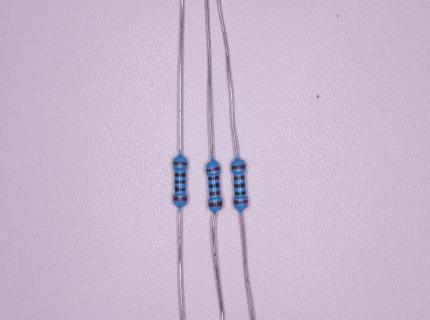Black band: (208, 182, 219, 188), (208, 175, 219, 180), (175, 187, 186, 191), (235, 191, 246, 195), (234, 184, 245, 188), (175, 173, 185, 177), (175, 181, 185, 184)
Brown band: (209, 201, 222, 207), (232, 164, 246, 169), (234, 175, 244, 180), (209, 191, 220, 195), (173, 162, 187, 165)
Red band: (206, 167, 220, 172), (173, 197, 187, 201), (234, 200, 248, 204)
